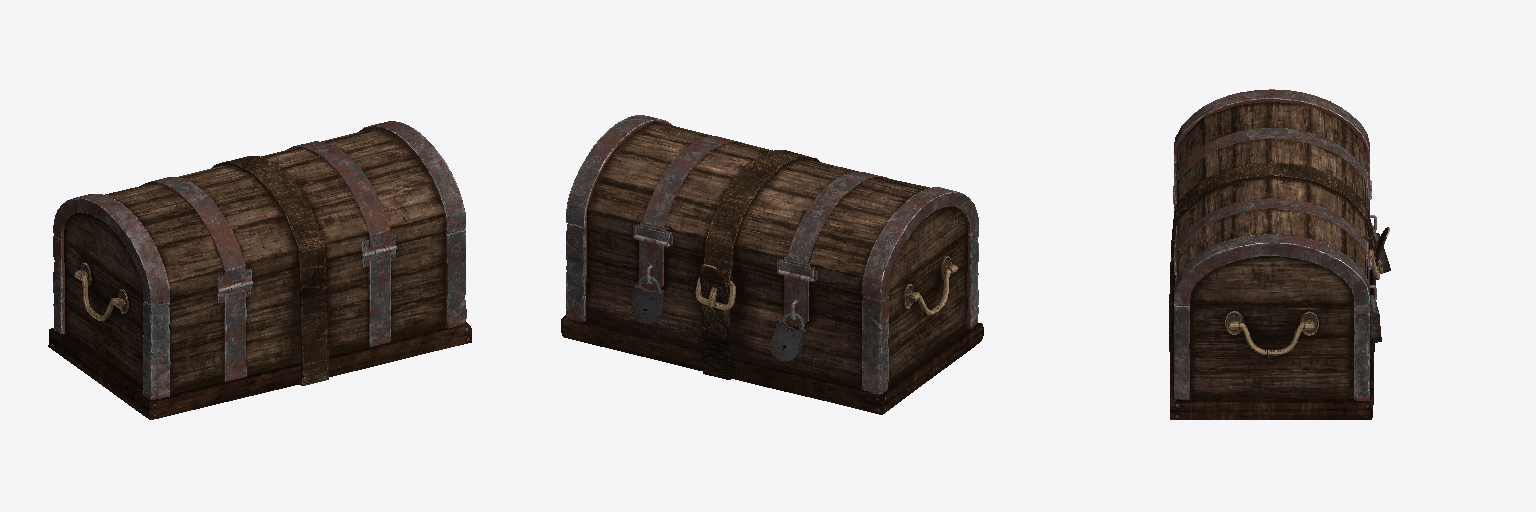
3 views of the same model, side by side, from view 1: azimuth 30°, elevation 25°; view 2: azimuth 150°, elevation 25°; view 3: azimuth 270°, elevation 25° (orthographic).
Visible parts, largest first — view 1: g Treasure_Chest_Lowpoly3:polySurface49 Treasure_Chest_Lowpoly3:; view 2: g Treasure_Chest_Lowpoly3:polySurface49 Treasure_Chest_Lowpoly3:, g Treasure_Chest_Lowpoly3:Lucchetto Treasure_Chest_Lowpoly3:grou; view 3: g Treasure_Chest_Lowpoly3:polySurface49 Treasure_Chest_Lowpoly3:.
Boxes of the visible parts, x1,y1,x2,y2 form: g Treasure_Chest_Lowpoly3:polySurface49 Treasure_Chest_Lowpoly3:: [48, 121, 471, 419]; g Treasure_Chest_Lowpoly3:polySurface49 Treasure_Chest_Lowpoly3:: [561, 115, 983, 414]; g Treasure_Chest_Lowpoly3:Lucchetto Treasure_Chest_Lowpoly3:grou: [770, 313, 806, 361]; g Treasure_Chest_Lowpoly3:polySurface49 Treasure_Chest_Lowpoly3:: [1169, 89, 1389, 419].
Bounding box in the file's own units: 2 × 1.03 × 1.15.
Materials: 1 (1 with a texture image).